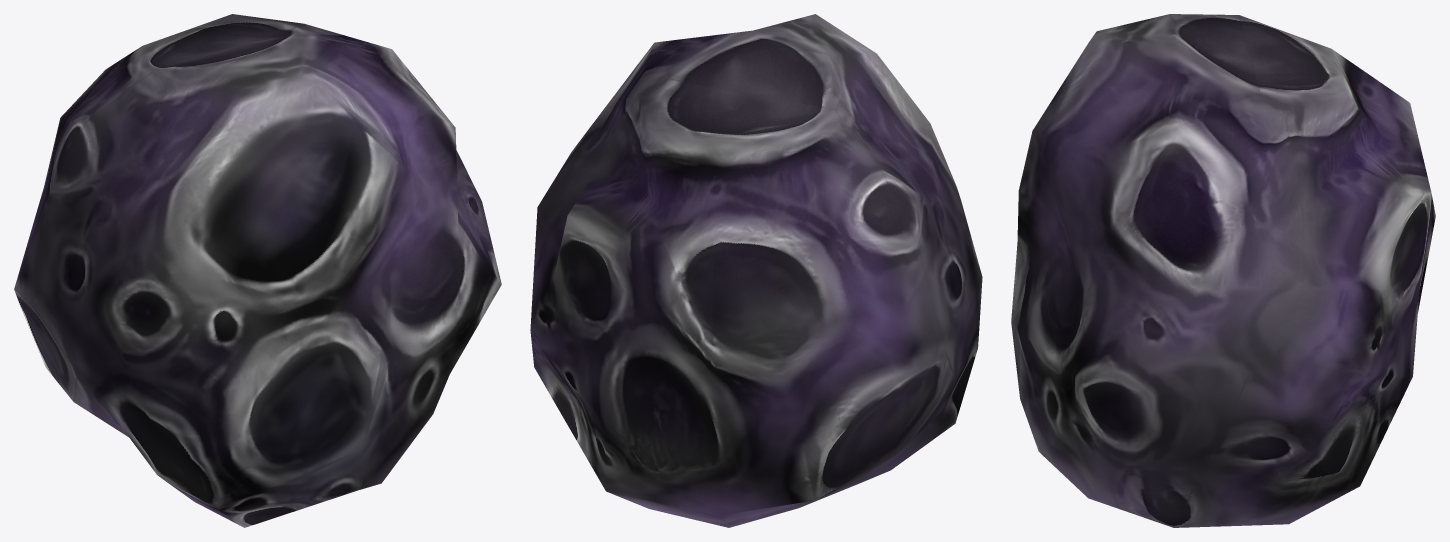
Rendered from ASTROID_1.FBX.
The picture shows the model from 3 angles, left to right: view 1: azimuth 30°, elevation 25°; view 2: azimuth 150°, elevation 25°; view 3: azimuth 270°, elevation 25°; orthographic projection. The views are drawn at different scales.
Parts seen in each view (by area): view 1: default; view 2: default; view 3: default.
Part boxes in pixels (bbox=[...]): default: bbox=[14, 14, 501, 527]; default: bbox=[530, 14, 982, 527]; default: bbox=[1011, 14, 1435, 527].
Bounding box in the file's own units: 17.21 × 18.19 × 14.97.
1 material, 1 textured.
